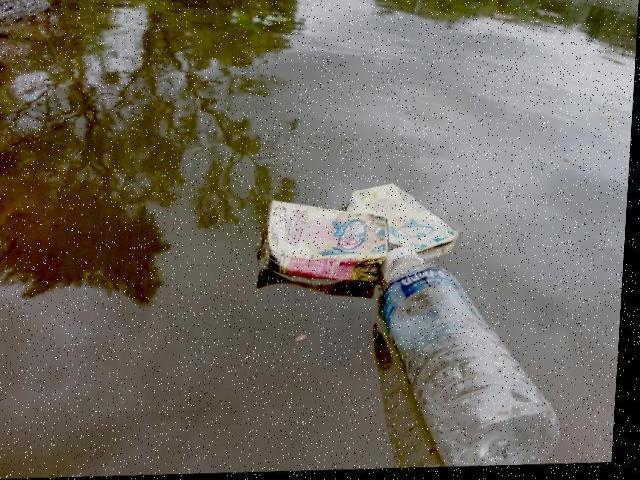Bottle: (372, 251, 562, 468)
Box: (259, 197, 394, 287), (337, 184, 461, 268)
